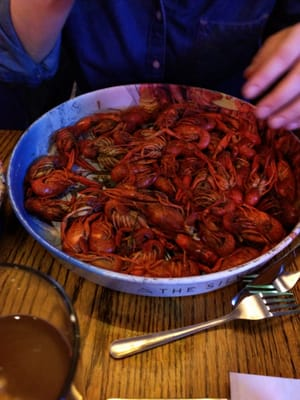pizza: (0, 263, 80, 400)
sushi: (8, 88, 300, 299), (0, 264, 80, 400)
